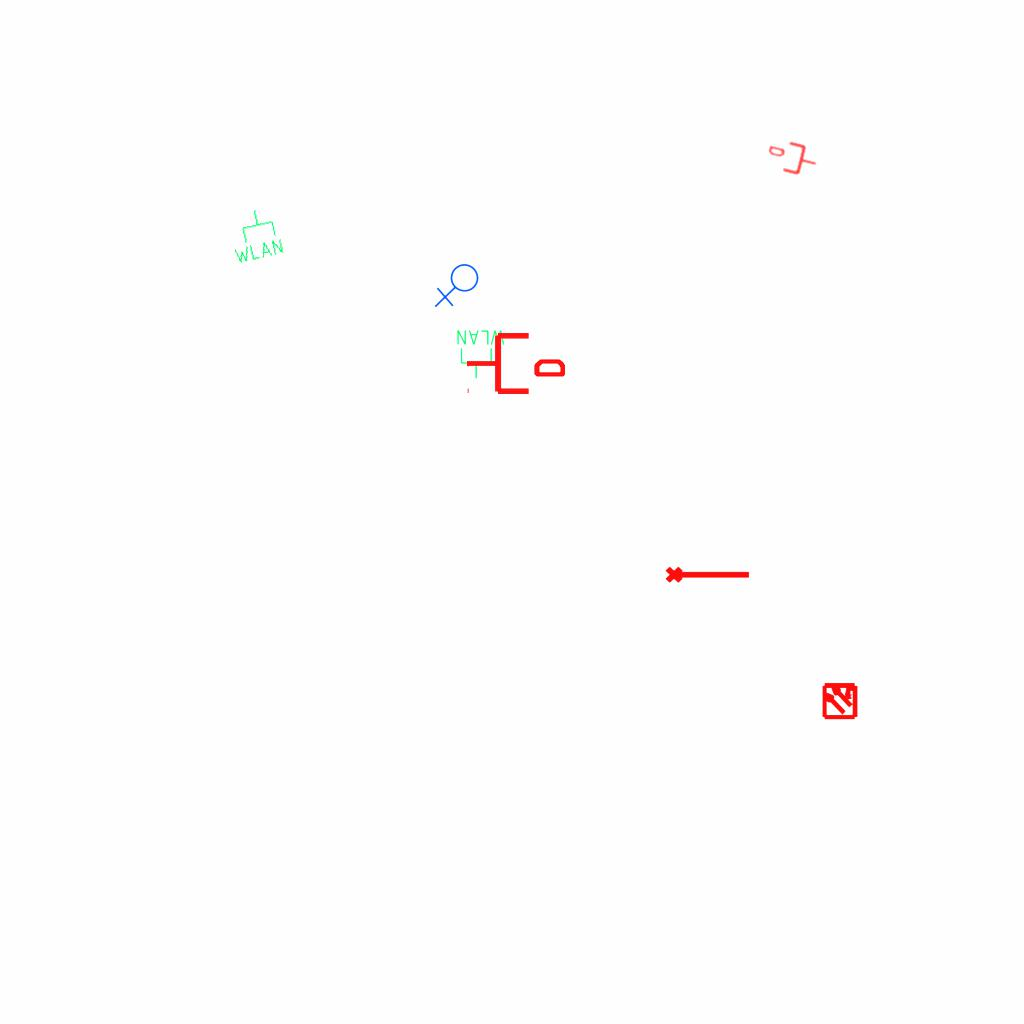ASR_Ansaugoeffnung: (664, 562, 752, 585)
Datenanschluss_einfach: (465, 329, 565, 398), (764, 135, 822, 181)
Elektroanschluss_allgemein_230V_Geraeteanschlussdose_230V: (434, 263, 483, 310)
OT_Multisensormelder_(Kombination_RMO_WMD): (812, 672, 868, 728)
WLAN: (223, 203, 287, 267), (455, 328, 507, 380)
